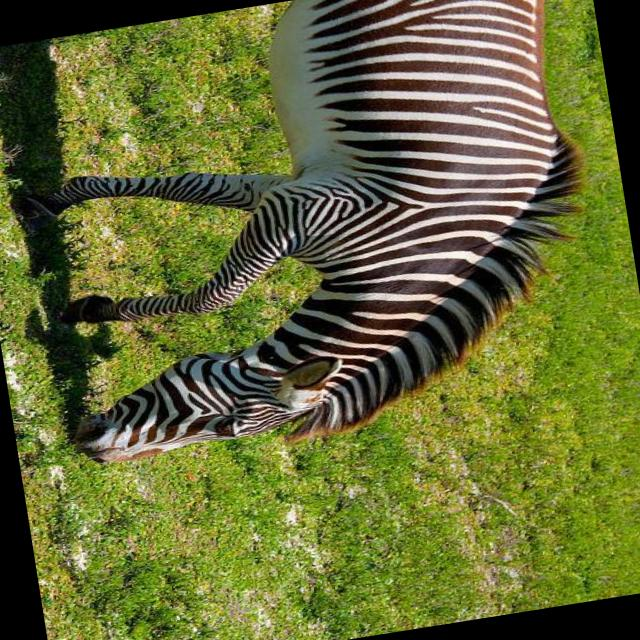zebra: (0, 0, 625, 484)
